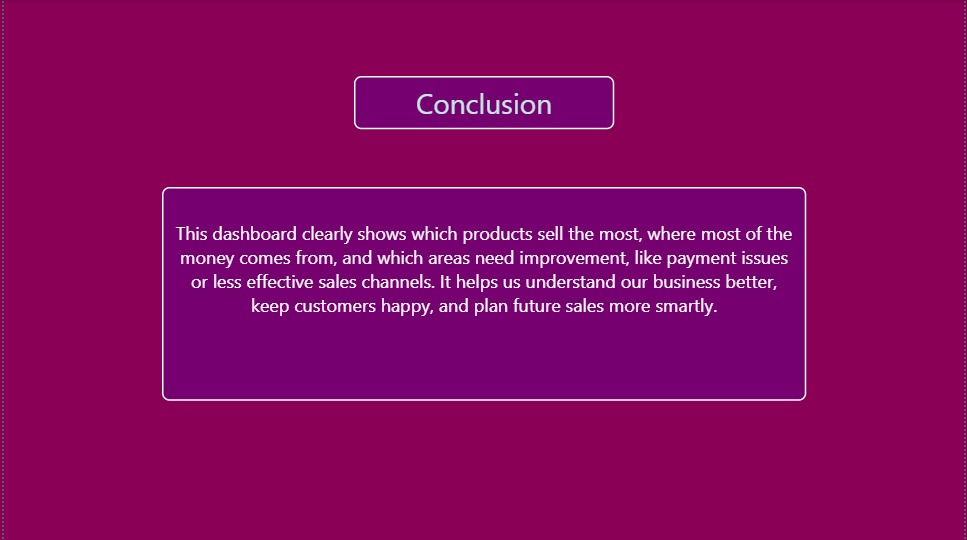

Layout of this report page (visuals, bound fields, positions):
{"tool":"powerbi","page":{"name":"Conclusion","canvas":[1280,720],"ordinal":2},"visuals":[{"type":"textbox","box":[210.7,249.3,858.7,285.3],"z":0},{"type":"textbox","box":[466.7,101.3,346.7,70.7],"z":1}]}

Visuals, with their boxes in screenshot pixels (x1, y1, x2, y2), scaled from the page's 1280x720 canvas onto the 967x540 screenshot:
textbox: Rect(159, 187, 808, 401)
textbox: Rect(353, 76, 614, 129)
